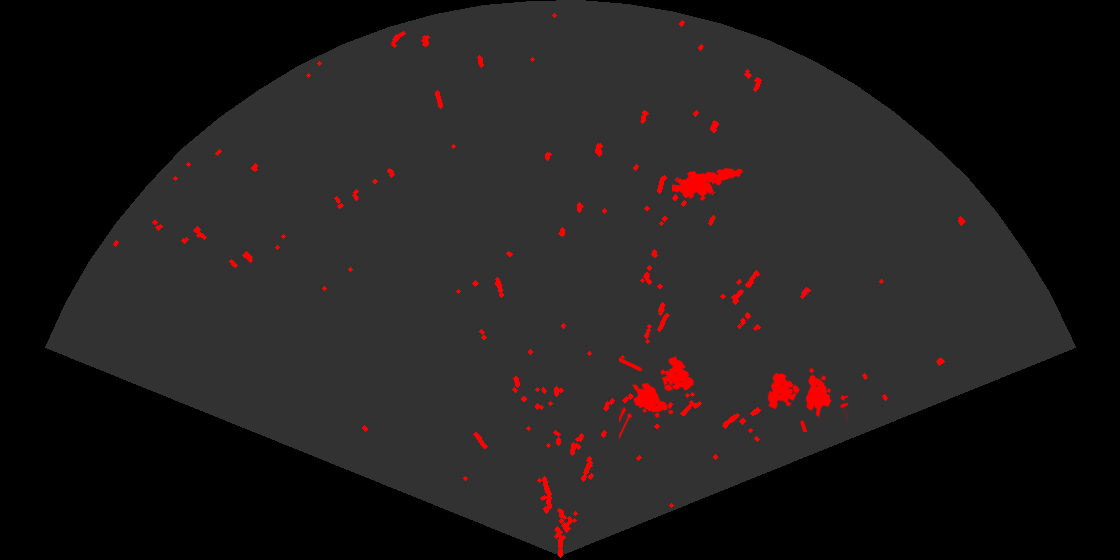cage: (619, 355, 696, 439), (766, 366, 848, 432)
frogman: (672, 166, 745, 203)
